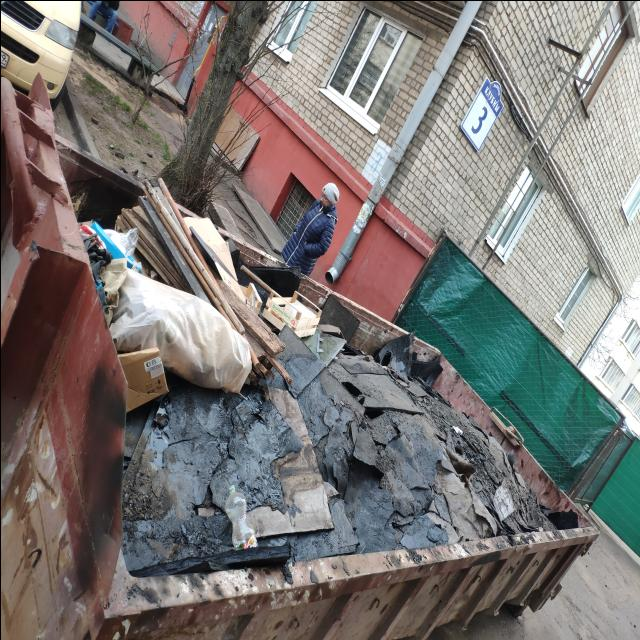entulho: (104, 248, 256, 402), (118, 174, 240, 336), (230, 270, 328, 358), (77, 213, 139, 280), (118, 347, 168, 409), (132, 233, 180, 284)
